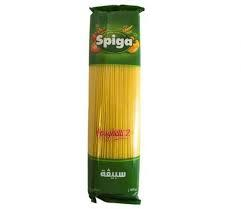Spaghetti: (91, 7, 138, 200)
